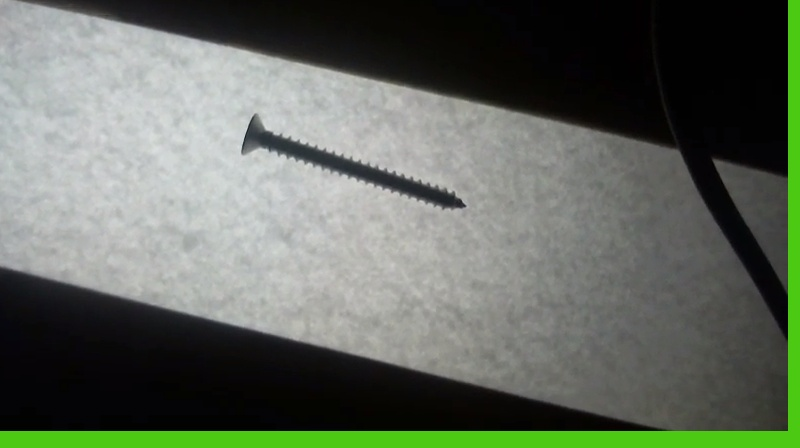S002: (236, 110, 469, 211)
